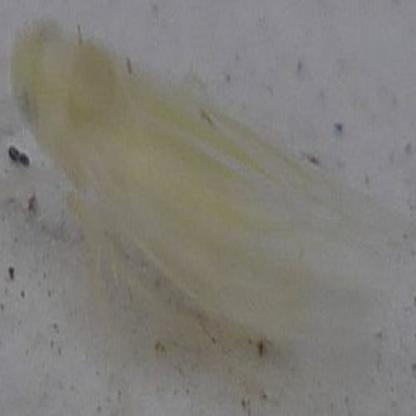green-leafhopper: (13, 13, 362, 348)
